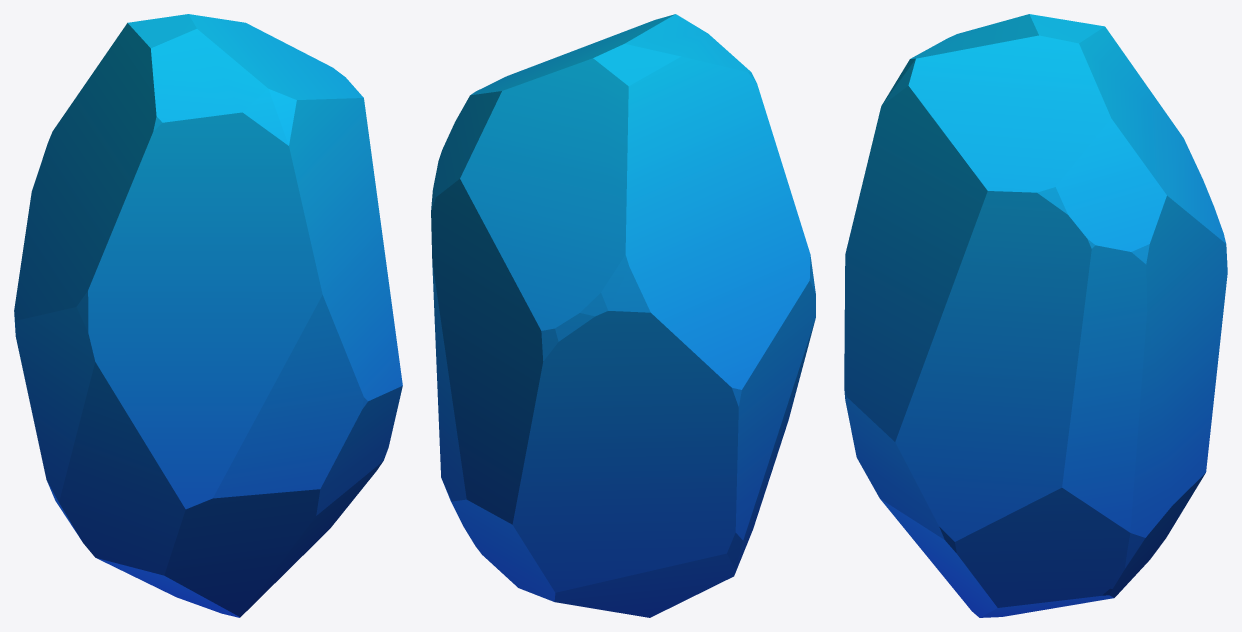
File: crystal_6.glb
The picture shows the model from 3 angles, left to right: view 1: azimuth 30°, elevation 25°; view 2: azimuth 150°, elevation 25°; view 3: azimuth 270°, elevation 25°; orthographic projection.
Parts seen in each view (by area): view 1: crystal_6; view 2: crystal_6; view 3: crystal_6.
Part boxes in pixels (x1=…): crystal_6: x1=14, y1=14, x2=402, y2=617; crystal_6: x1=431, y1=14, x2=815, y2=617; crystal_6: x1=844, y1=14, x2=1227, y2=617.
Size of the model in its own units: 5.11 by 8.98 by 5.4.
1 material, 1 textured.
